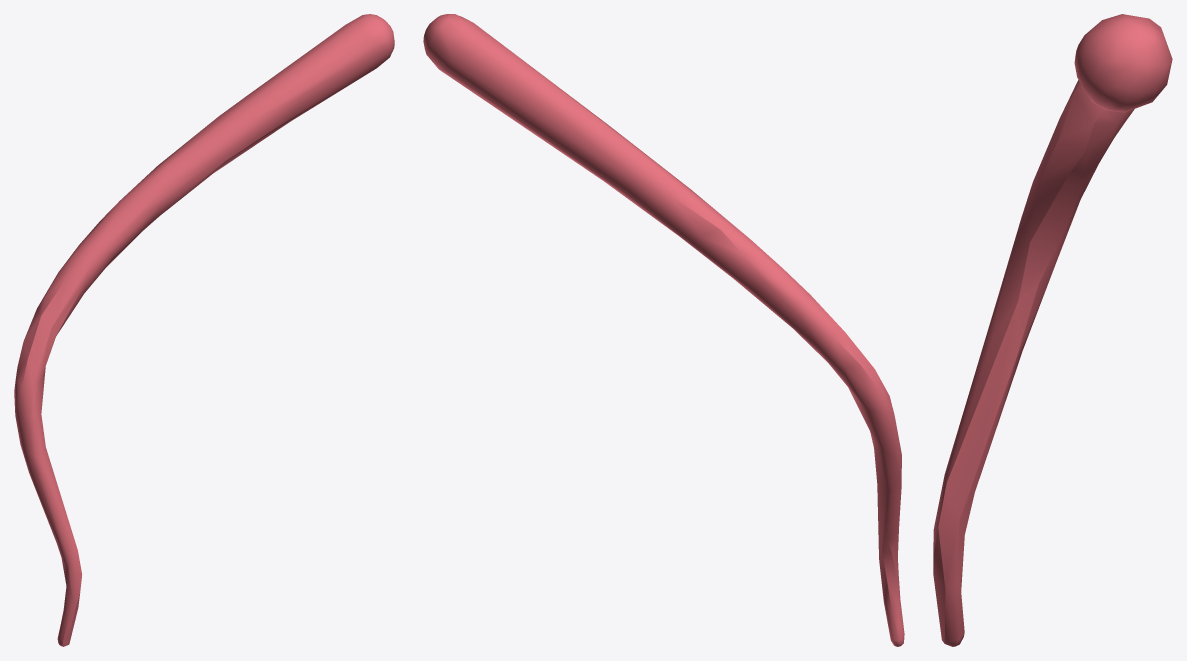
The model's file is fma70489_fj3574.glb.
3 views of the same model, side by side, from view 1: azimuth 30°, elevation 25°; view 2: azimuth 150°, elevation 25°; view 3: azimuth 270°, elevation 25° (orthographic). The views are drawn at different scales.
Parts seen in each view (by area): view 1: FMA70489_FJ3574; view 2: FMA70489_FJ3574; view 3: FMA70489_FJ3574.
Boxes of the visible parts, <box> form: FMA70489_FJ3574: <box>14,14,394,646</box>; FMA70489_FJ3574: <box>423,14,904,646</box>; FMA70489_FJ3574: <box>933,14,1172,646</box>.
Bounding box in the file's own units: 0.0163 × 0.0201 × 0.00462.
